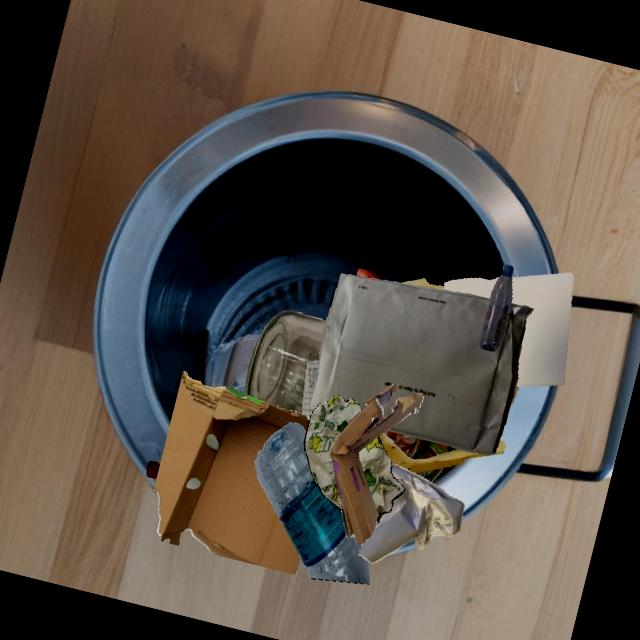biowaste: (404, 287, 515, 459), (356, 268, 382, 280)
cardboard: (153, 371, 310, 574), (329, 382, 423, 544)
glass: (244, 310, 325, 414), (146, 460, 160, 481), (375, 513, 383, 527), (276, 405, 289, 410), (378, 438, 381, 444)
paper: (308, 273, 533, 454), (357, 463, 464, 563), (510, 272, 573, 386), (304, 395, 361, 511), (358, 436, 404, 523), (387, 430, 447, 459), (301, 360, 318, 417)
plastic: (254, 422, 369, 584), (479, 264, 513, 352)
